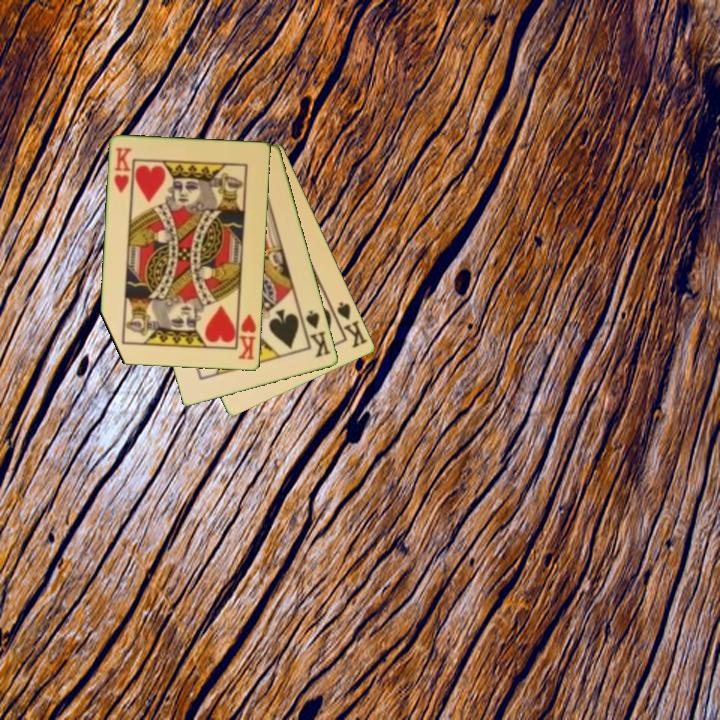Kh: (234, 307, 259, 363), (111, 144, 134, 196)
Ks: (334, 298, 371, 351), (298, 307, 334, 360)
